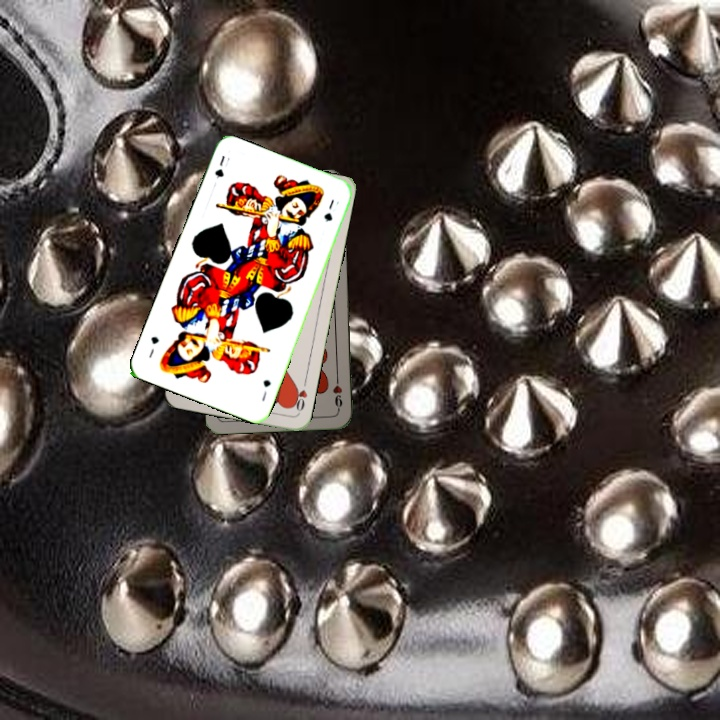GU: (211, 151, 232, 181), (258, 375, 274, 404)
H9: (329, 373, 345, 413)
HO: (288, 375, 310, 416)
